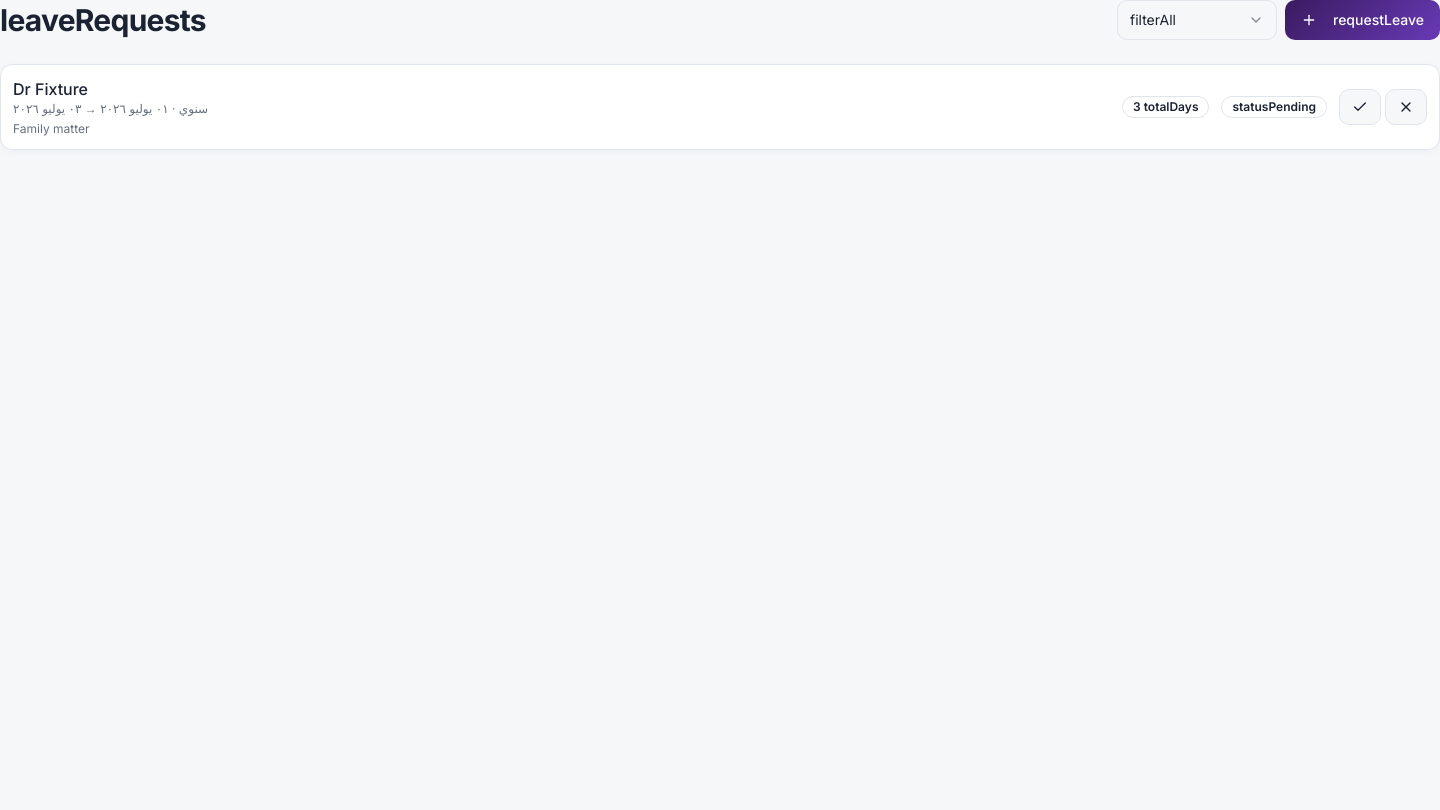
Test case: leave rejection dialog › says the same thing in Arabic
Later steps or results of the test are not shown.
Click the button named "رفض الطلب" at (1406, 107), box left=1385, top=89, right=1427, bottom=125
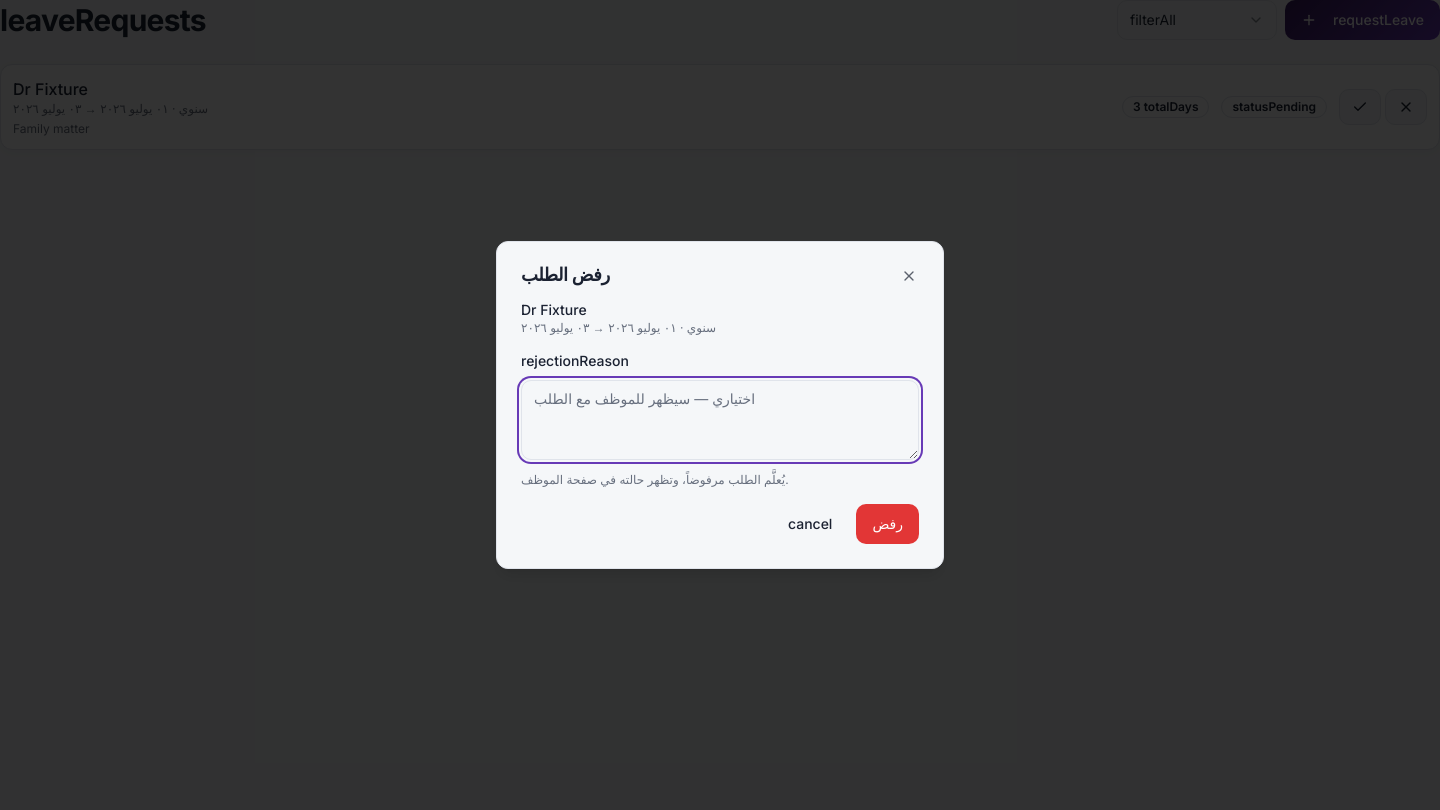
Now the heading "رفض الطلب" is shown, box left=521, top=264, right=610, bottom=285
Now the dialog shows "يُعلَّم الطلب مرفوضاً، وتظهر حالته في صفحة الموظف.", box left=521, top=472, right=789, bottom=487
